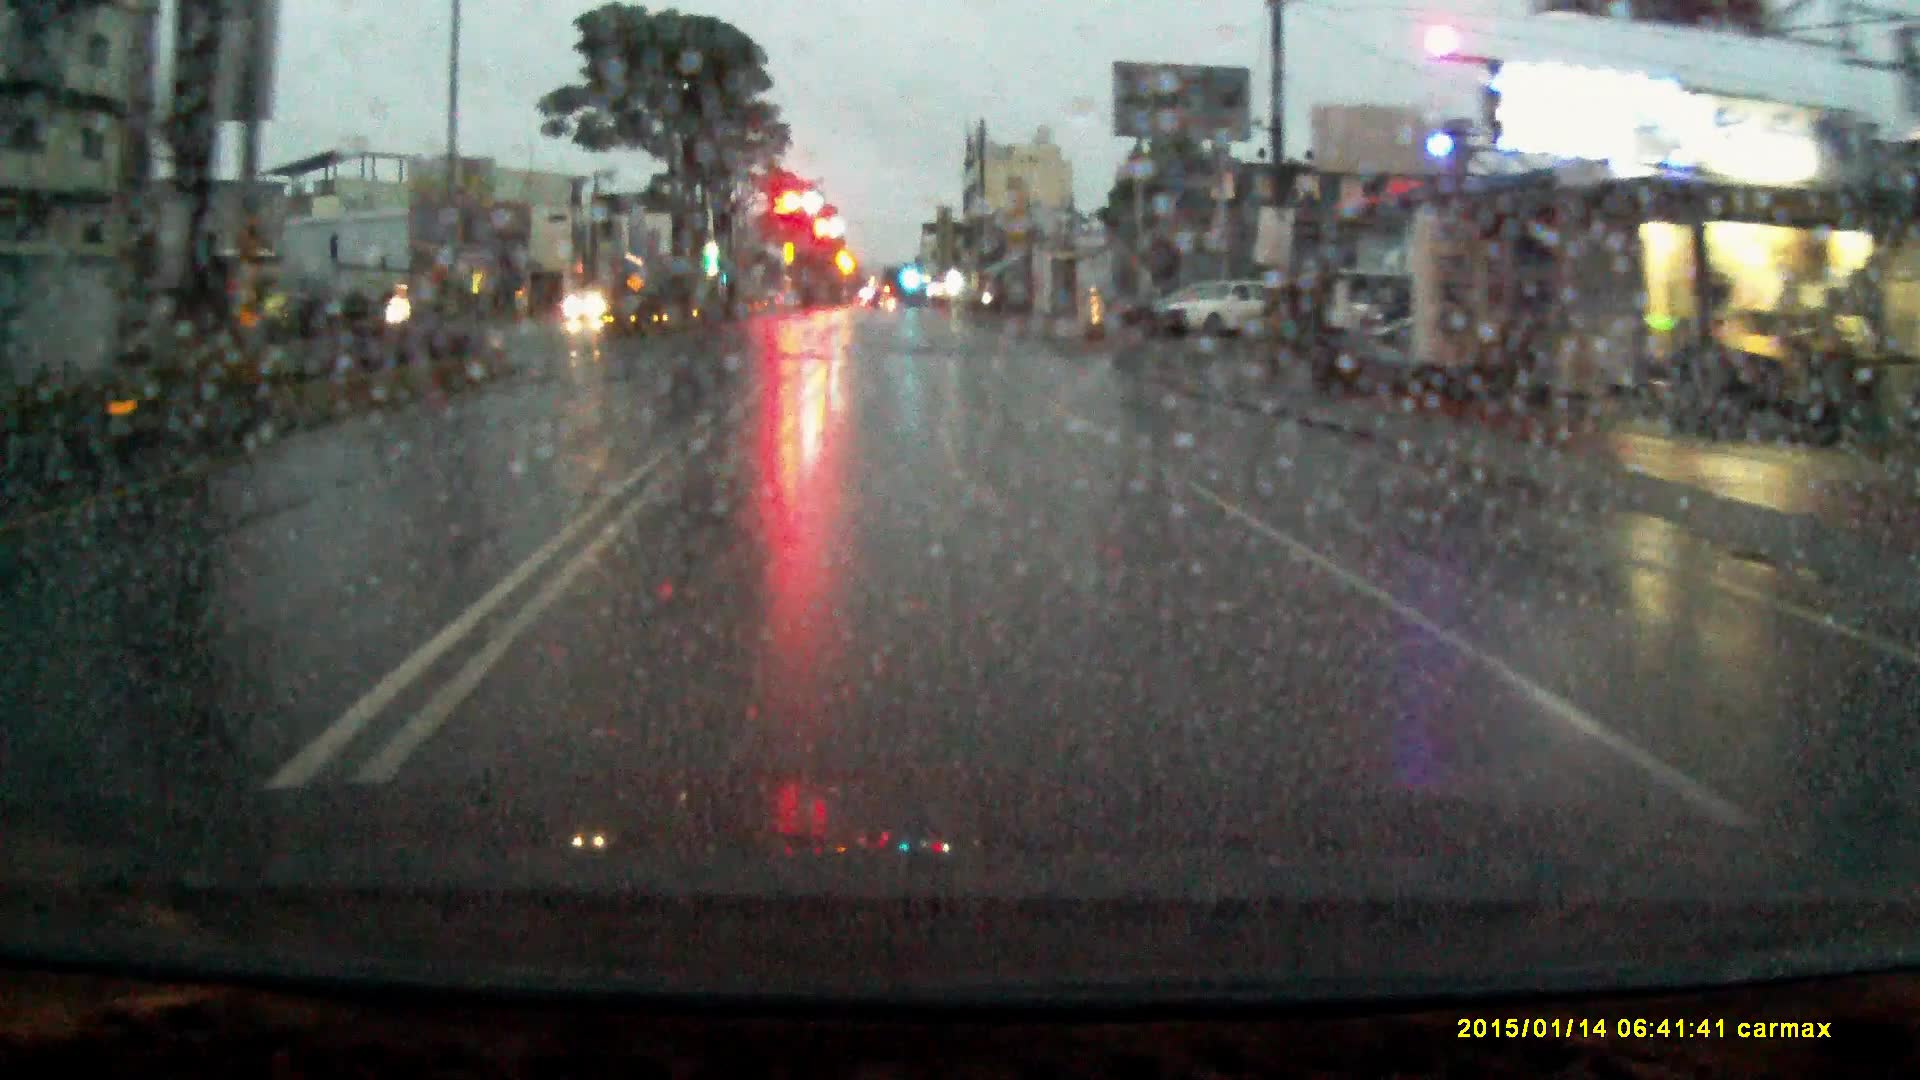vehicle: (1162, 284, 1298, 347), (566, 294, 616, 330)
